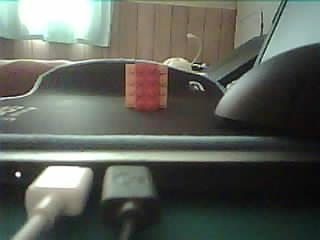lego: (125, 63, 168, 110)
